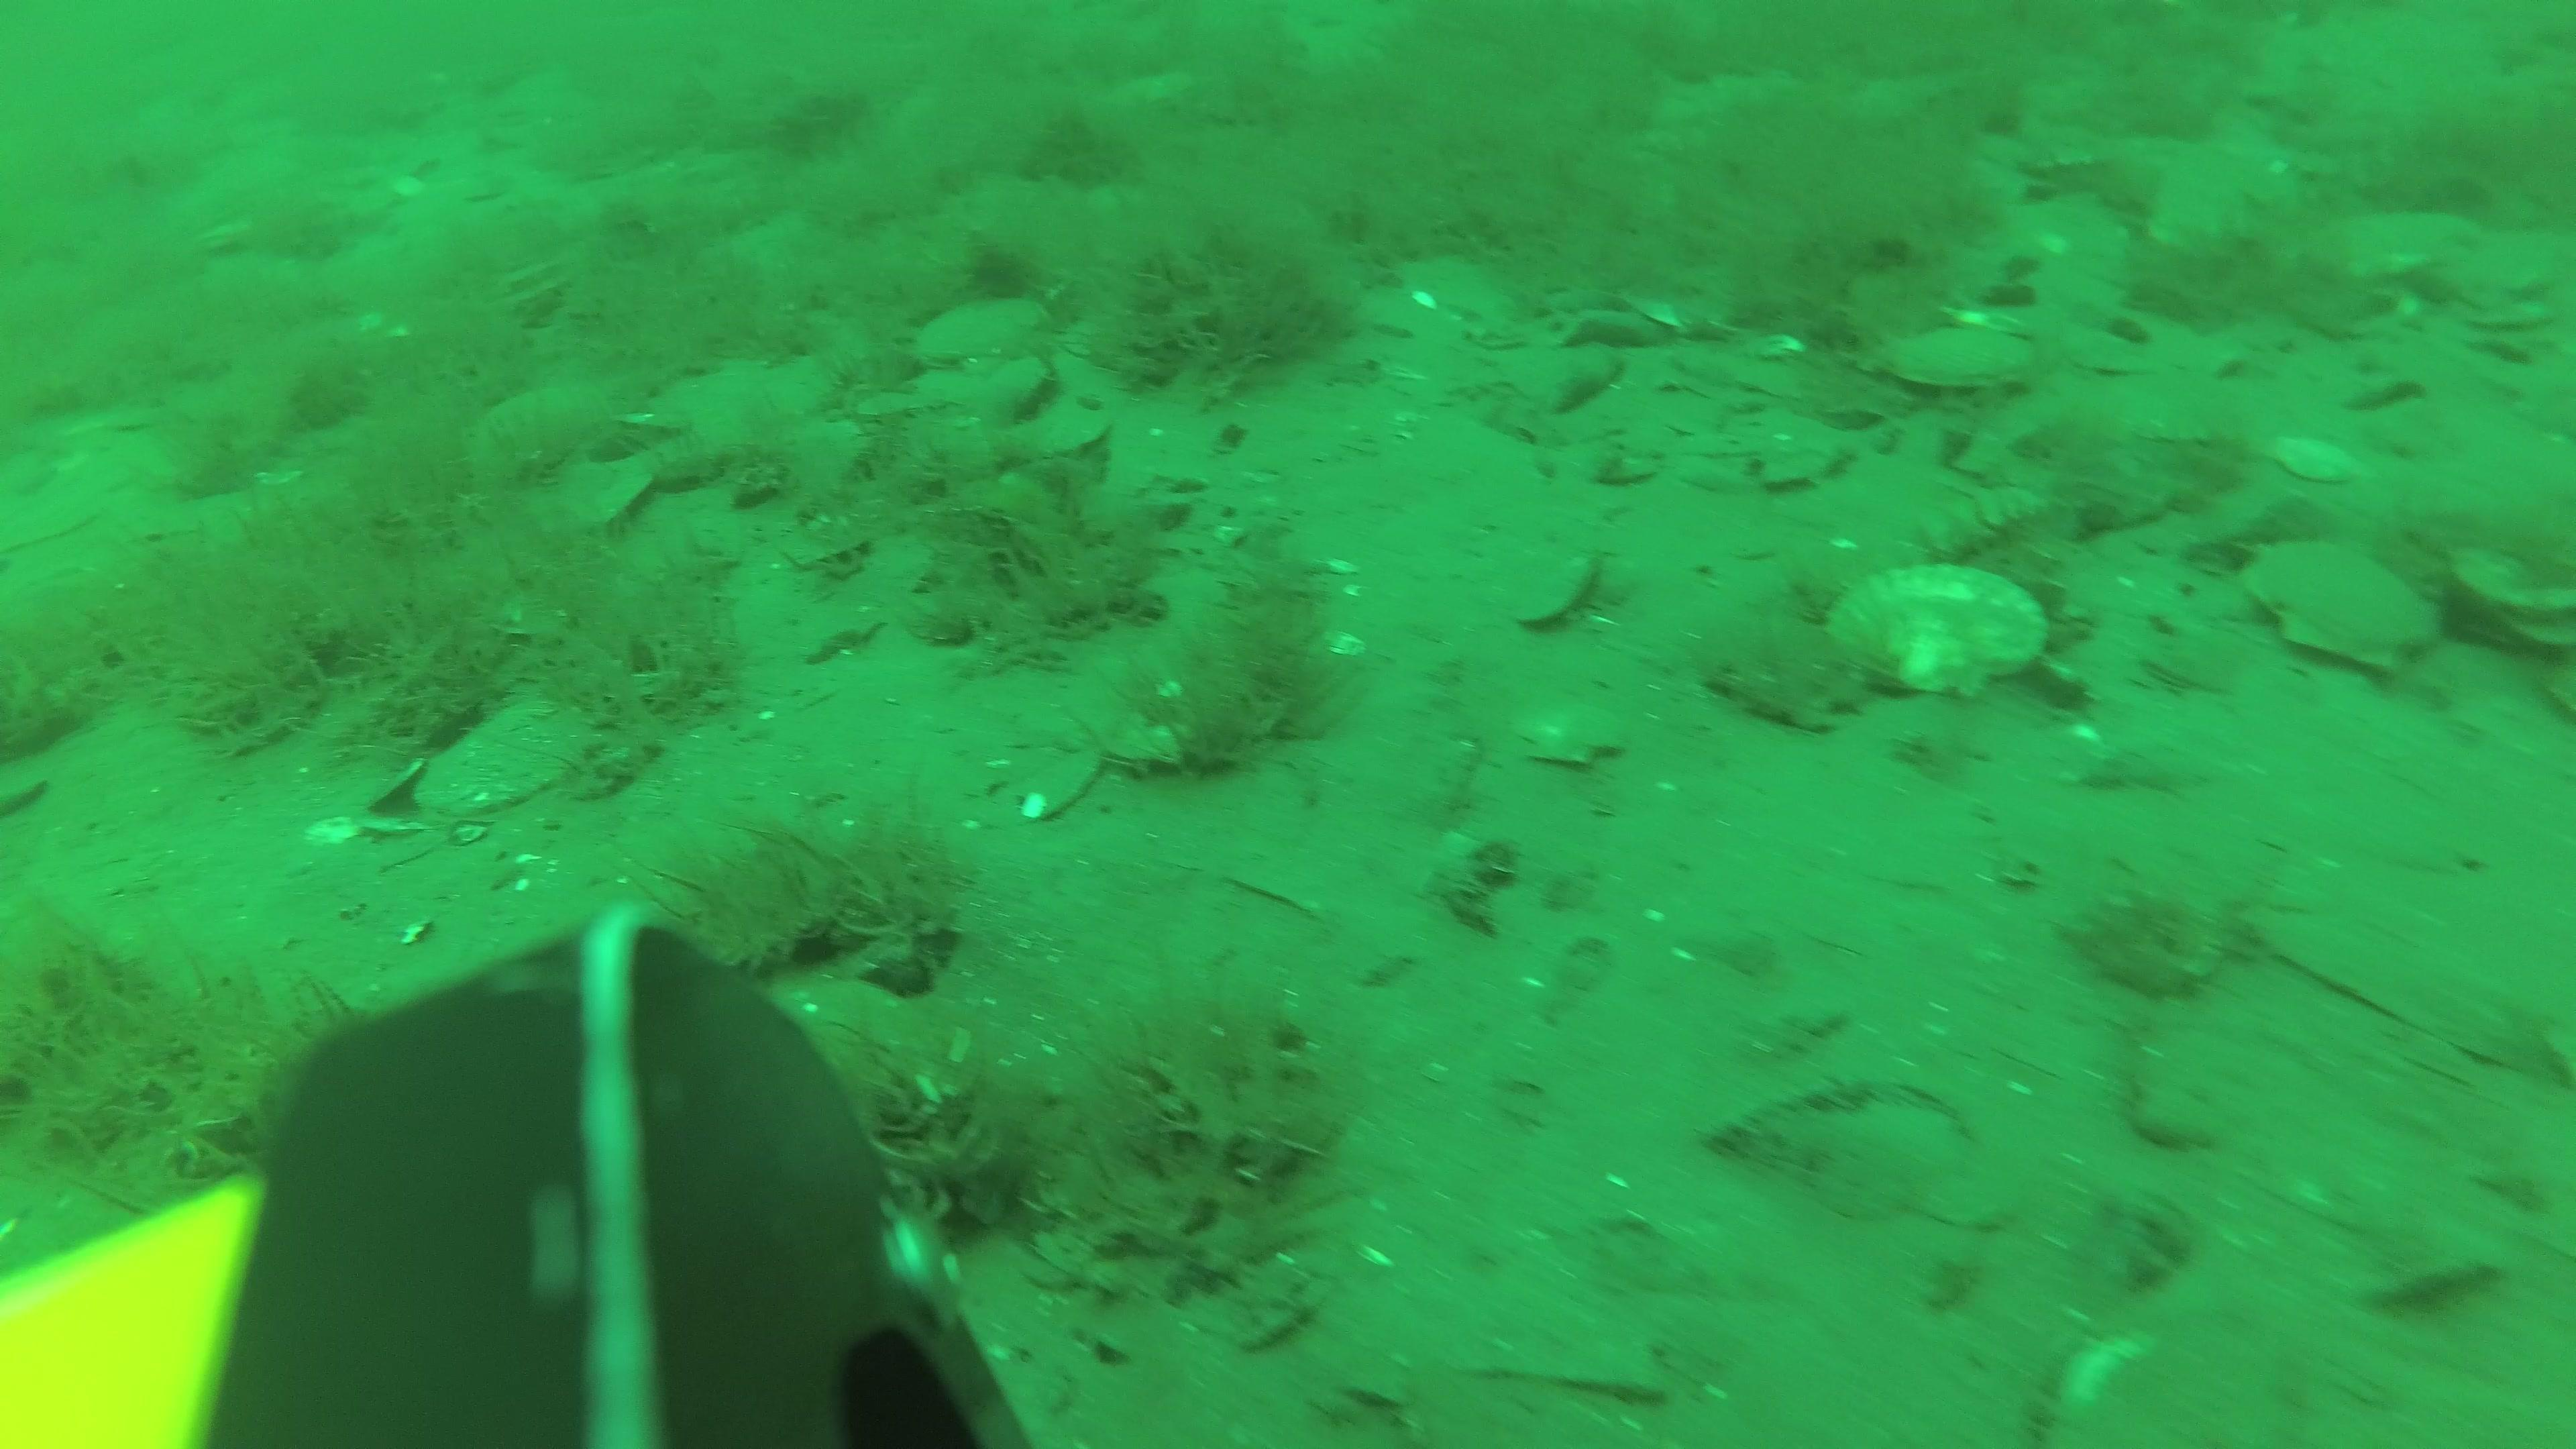scallop: (2258, 869, 2574, 1095), (1819, 557, 2056, 706), (2242, 533, 2447, 681), (409, 681, 612, 821), (2298, 205, 2493, 297), (1877, 320, 2043, 400), (909, 292, 1060, 375), (1069, 678, 1189, 778), (1502, 688, 1638, 773), (2132, 402, 2235, 478), (1504, 548, 1601, 628), (1730, 444, 1859, 495), (2258, 432, 2371, 488), (1014, 405, 1123, 458), (970, 352, 1053, 419), (2063, 326, 2157, 382), (1576, 444, 1660, 488)
